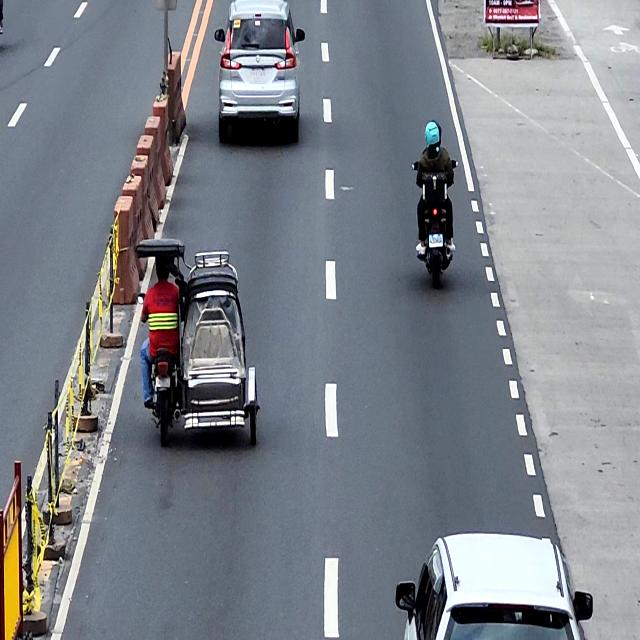Car: (395, 532, 593, 640), (214, 0, 305, 143)
License-Plate: (428, 230, 443, 248), (250, 68, 268, 80), (156, 374, 170, 389)
Motorcycle: (411, 158, 458, 289)
Tricycle: (135, 237, 260, 447)
